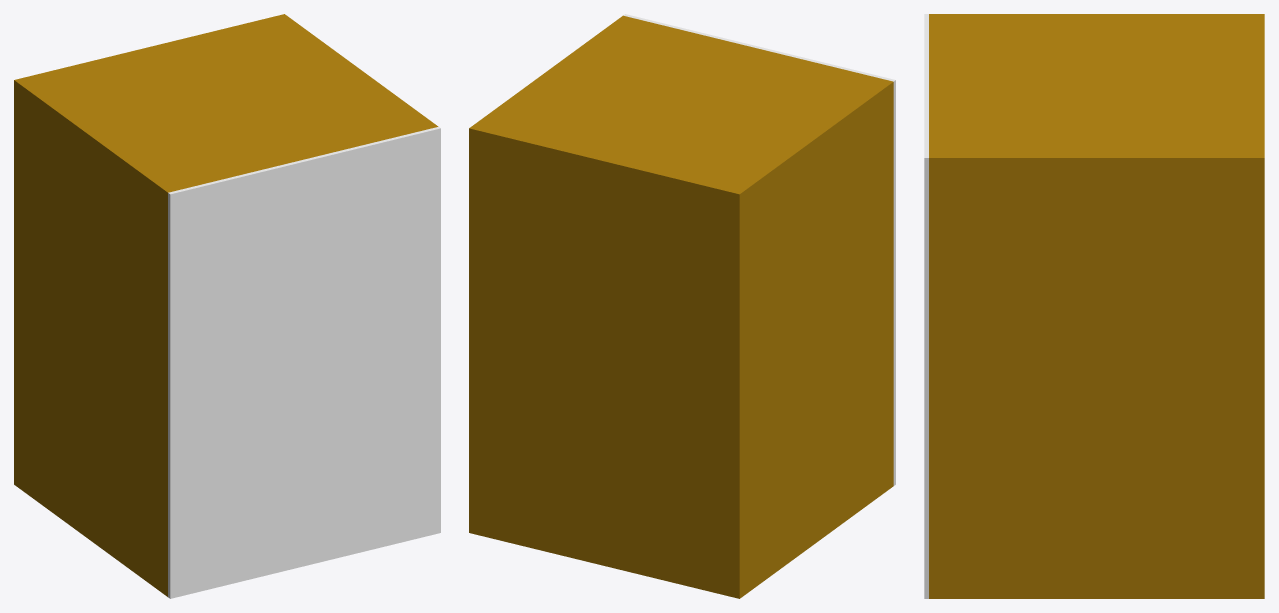
Rendered from nil_link_mesh.dae.
3 views of the same model, side by side, from view 1: azimuth 30°, elevation 25°; view 2: azimuth 150°, elevation 25°; view 3: azimuth 270°, elevation 25° (orthographic). The views are drawn at different scales.
Parts seen in each view (by area): view 1: nil_link (×2); view 2: nil_link (×2); view 3: nil_link (×2).
Boxes of the visible parts, box(x1,y1,x2,y2) form: nil_link (×2): box(14, 14, 440, 598); nil_link (×2): box(469, 14, 895, 598); nil_link (×2): box(924, 14, 1264, 598).
Size of the model in its own units: 0.7 by 1 by 0.7.
